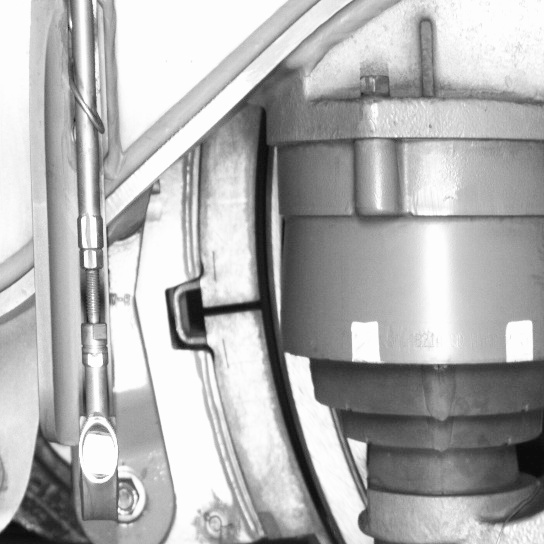KnifeSwitch: (195, 140, 349, 541)
